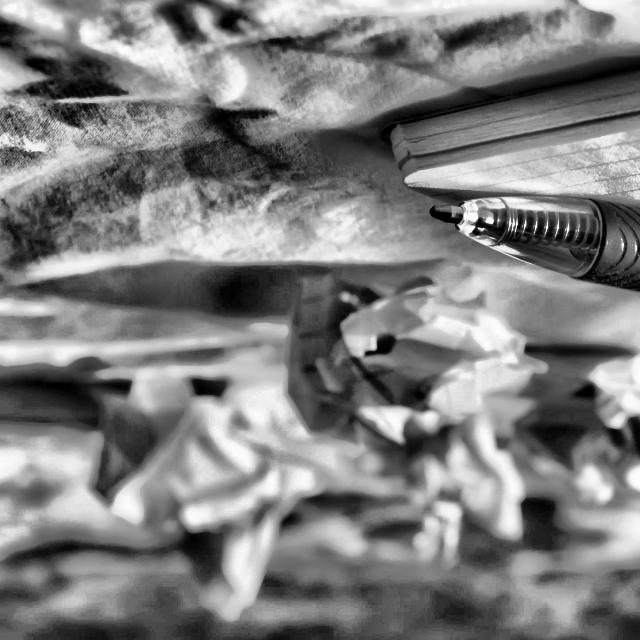Pen: (413, 182, 640, 298)
